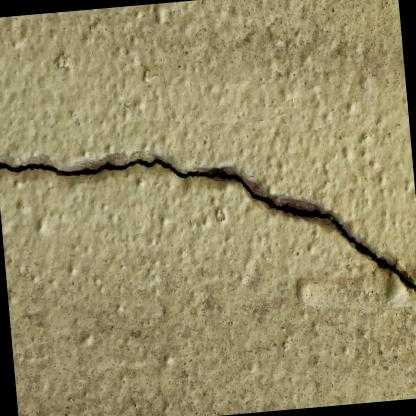crack: (0, 158, 416, 294)
